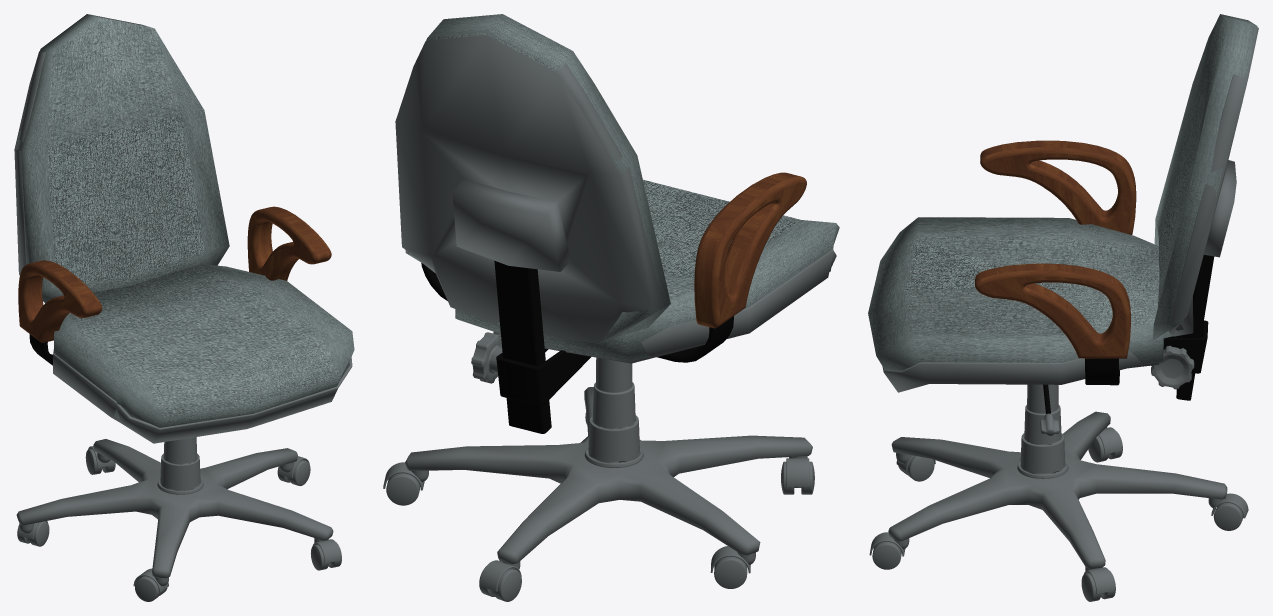
File: computerchair.glb
The picture shows the model from 3 angles, left to right: view 1: azimuth 30°, elevation 25°; view 2: azimuth 150°, elevation 25°; view 3: azimuth 270°, elevation 25°; orthographic projection. The views are drawn at different scales.
Parts seen in each view (by area): view 1: Cube, Cube_2, Cylinder, Низ_сидения_3, Выдавливание, Cone, Закругление_1, Низ_сидения, Закругление_2, Шапка_1, Шапка_2, Oil_Tank (+1 smaller); view 2: Низ_сидения, Cylinder, Cube_2, Cube, Стойка_спинки, Cone, Низ_сидения_3, Выдавливание, Extrude_NURBS_2, Закругление_1, Шапка_1, Симметрия_1 (+7 smaller); view 3: Cube_2, Cylinder, Cube, Низ_сидения, Низ_сидения_3, Закругление_1, Выдавливание, Закругление_2, Cone, Шапка_1, Шапка_2, Стойка_спинки (+7 smaller).
Boxes of the visible parts, left/top/right/bottom form: Cube: left=15, top=14, right=229, bottom=303; Cube_2: left=54, top=264, right=354, bottom=427; Cylinder: left=16, top=439, right=333, bottom=578; Низ_сидения_3: left=53, top=349, right=352, bottom=443; Выдавливание: left=28, top=206, right=329, bottom=342; Cone: left=157, top=437, right=203, bottom=494; Закругление_1: left=18, top=206, right=331, bottom=342; Низ_сидения: left=14, top=51, right=45, bottom=275; Закругление_2: left=40, top=209, right=317, bottom=330; Шапка_1: left=18, top=268, right=82, bottom=338; Шапка_2: left=248, top=214, right=311, bottom=279; Oil_Tank: left=135, top=576, right=167, bottom=601; Низ_сидения: left=395, top=34, right=662, bottom=343; Cylinder: left=405, top=387, right=812, bottom=564; Cube_2: left=455, top=179, right=839, bottom=362; Cube: left=405, top=14, right=670, bottom=339; Стойка_спинки: left=494, top=260, right=551, bottom=433; Cone: left=584, top=357, right=643, bottom=467; Низ_сидения_3: left=457, top=249, right=836, bottom=363; Выдавливание: left=697, top=172, right=799, bottom=328; Extrude_NURBS_2: left=496, top=348, right=591, bottom=405; Закругление_1: left=711, top=176, right=806, bottom=328; Шапка_1: left=719, top=183, right=806, bottom=322; Симметрия_1: left=421, top=263, right=733, bottom=362; Cube_2: left=868, top=217, right=1164, bottom=370; Cylinder: left=888, top=411, right=1227, bottom=569; Cube: left=1153, top=14, right=1257, bottom=340; Низ_сидения: left=1168, top=27, right=1258, bottom=336; Низ_сидения_3: left=882, top=350, right=1159, bottom=392; Закругление_1: left=975, top=140, right=1130, bottom=358; Выдавливание: left=975, top=141, right=1136, bottom=340; Закругление_2: left=976, top=147, right=1135, bottom=333; Cone: left=1017, top=384, right=1068, bottom=478; Шапка_1: left=979, top=276, right=1125, bottom=355; Шапка_2: left=984, top=153, right=1131, bottom=232; Стойка_спинки: left=1176, top=255, right=1214, bottom=400.
Bounding box in the file's own units: 6.52 × 9.72 × 6.81.
5 materials, 3 textured.
